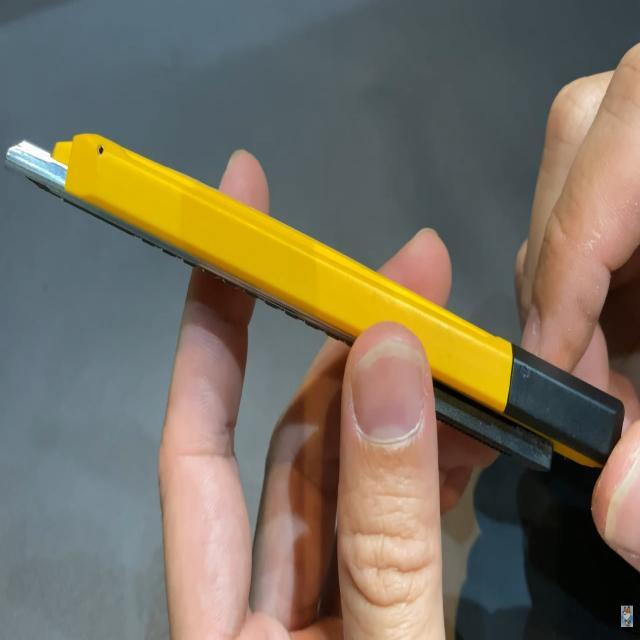cutter: (0, 74, 640, 596)
